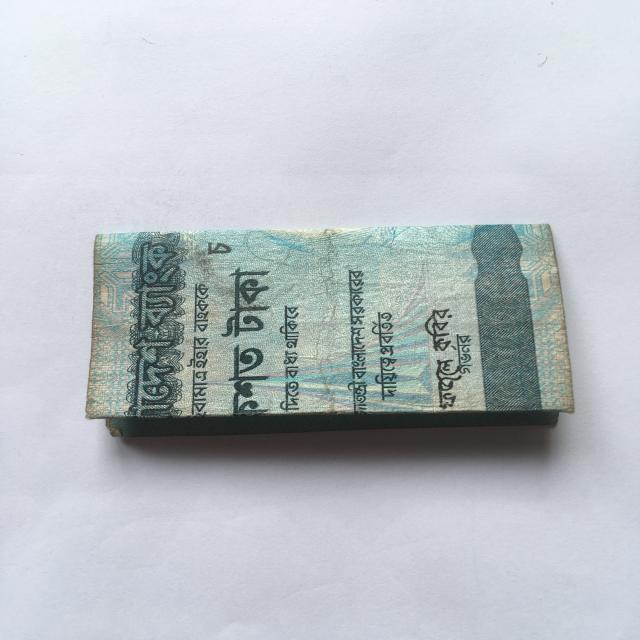Taka: (77, 216, 586, 439)
